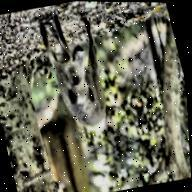boar: (30, 12, 130, 143)
